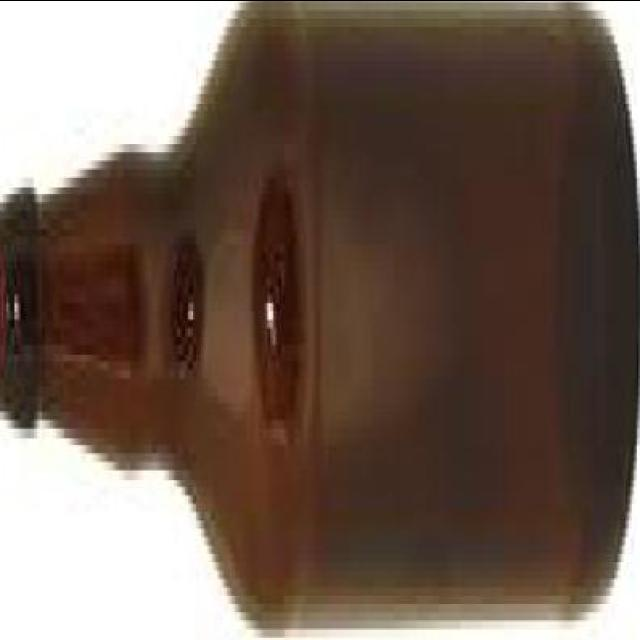kaca: (0, 1, 640, 620)
